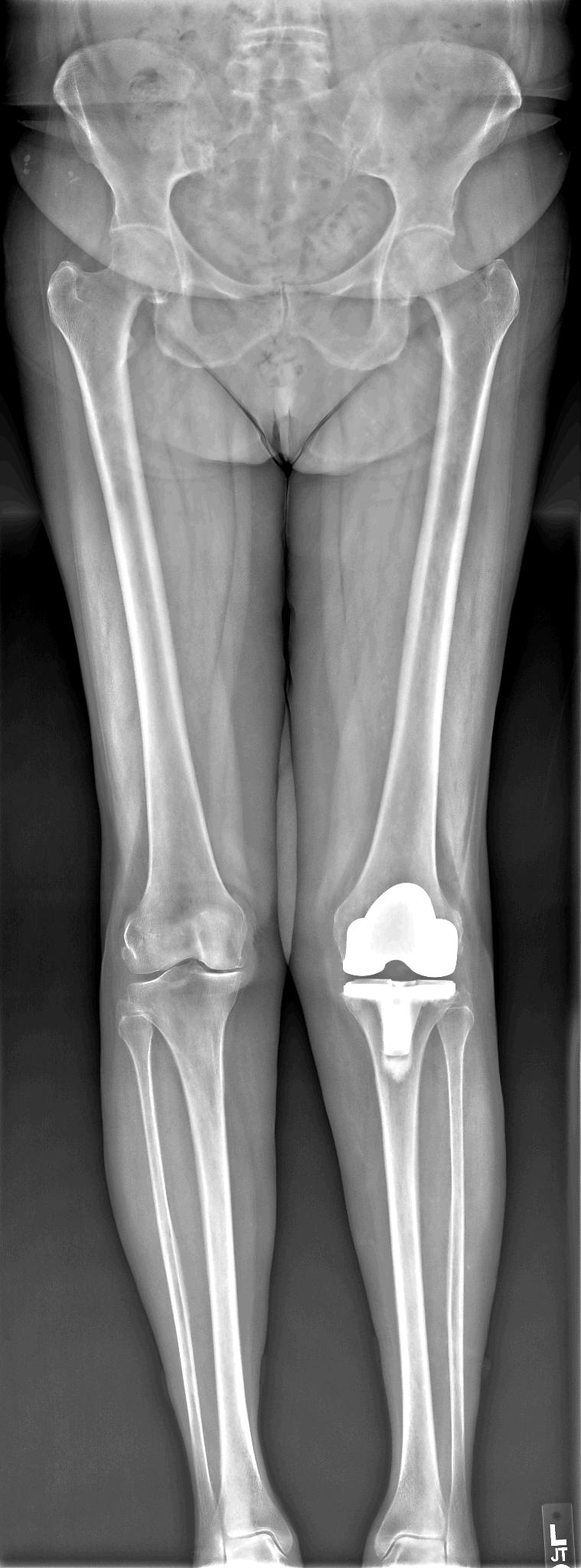Leg Fibula: (119, 1014, 226, 1568), (439, 1005, 474, 1563)
Leg Tibia: (131, 962, 292, 1554), (343, 979, 456, 1559)
femur: (48, 262, 246, 971), (334, 262, 519, 980)
